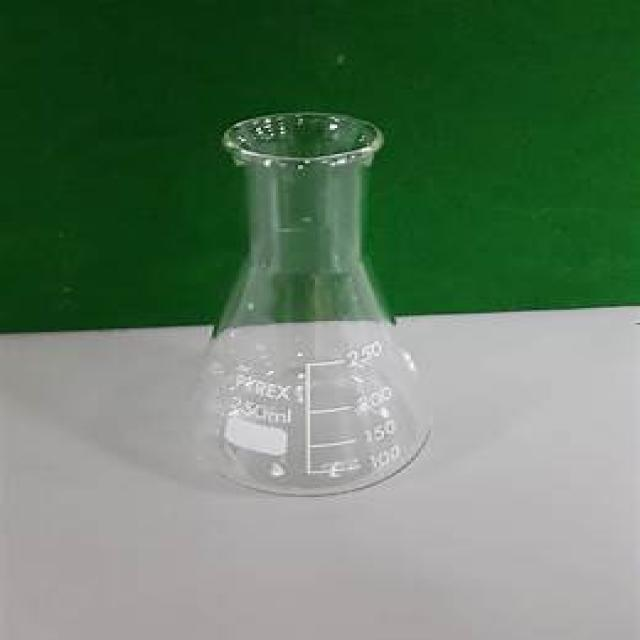Titrarion: (194, 102, 437, 493)
